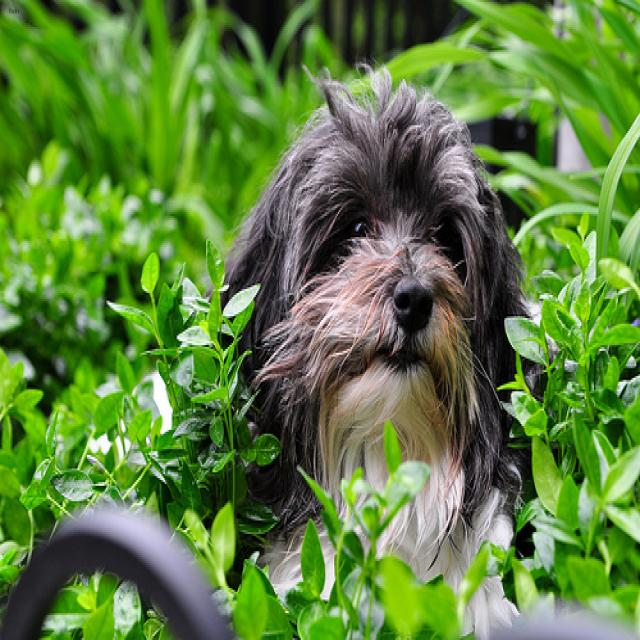dog-havanese: (146, 48, 591, 636)
